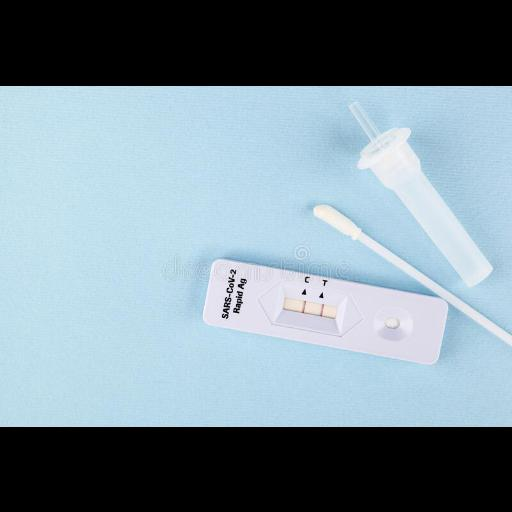Pos: (202, 258, 451, 364)
